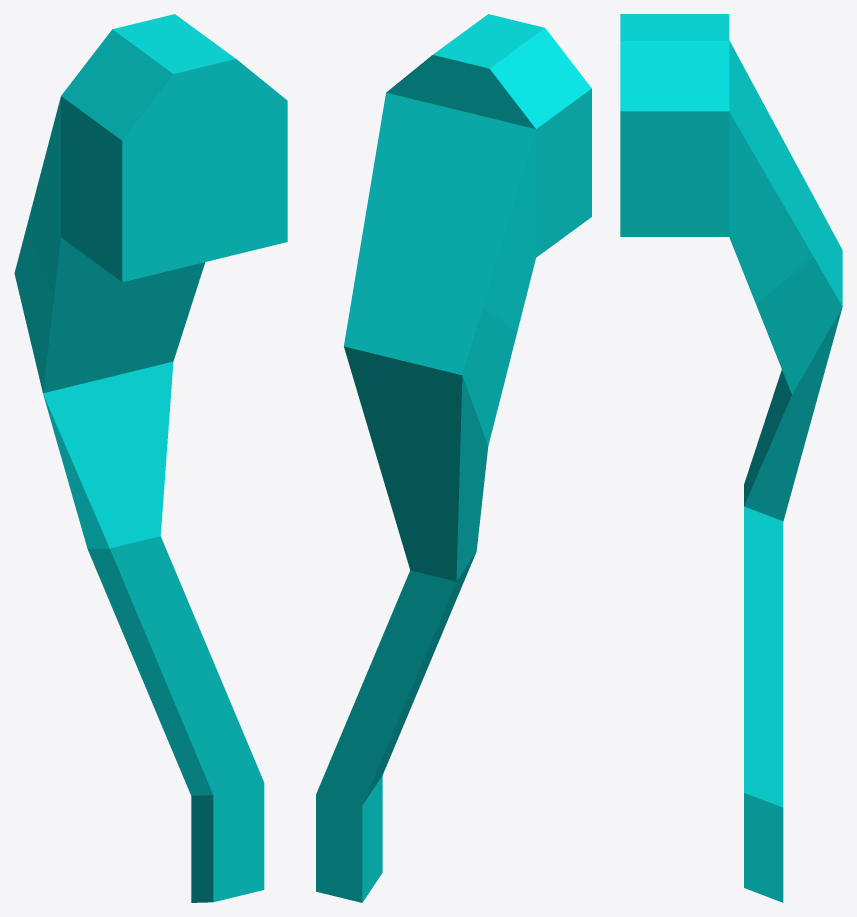
The model's file is Attachment_Type0_C_Shattered.fbx.
The picture shows the model from 3 angles, left to right: view 1: azimuth 30°, elevation 25°; view 2: azimuth 150°, elevation 25°; view 3: azimuth 270°, elevation 25°; orthographic projection. The views are drawn at different scales.
Visible parts, largest first — view 1: Attachment_Type0_C3, Attachment_Type0_C2; view 2: Attachment_Type0_C3, Attachment_Type0_C2, Attachment_Type0_C4; view 3: Attachment_Type0_C2, Attachment_Type0_C3, Attachment_Type0_C4.
Part boxes in pixels (<box>): Attachment_Type0_C3: <box>14,224,264,902</box>; Attachment_Type0_C2: <box>27,14,287,298</box>; Attachment_Type0_C3: <box>316,281,517,902</box>; Attachment_Type0_C2: <box>354,14,591,331</box>; Attachment_Type0_C4: <box>367,92,536,257</box>; Attachment_Type0_C2: <box>620,14,813,303</box>; Attachment_Type0_C3: <box>744,192,842,902</box>; Attachment_Type0_C4: <box>622,42,780,236</box>.
Size of the model in its own units: 2.92 by 12.17 by 2.99.
